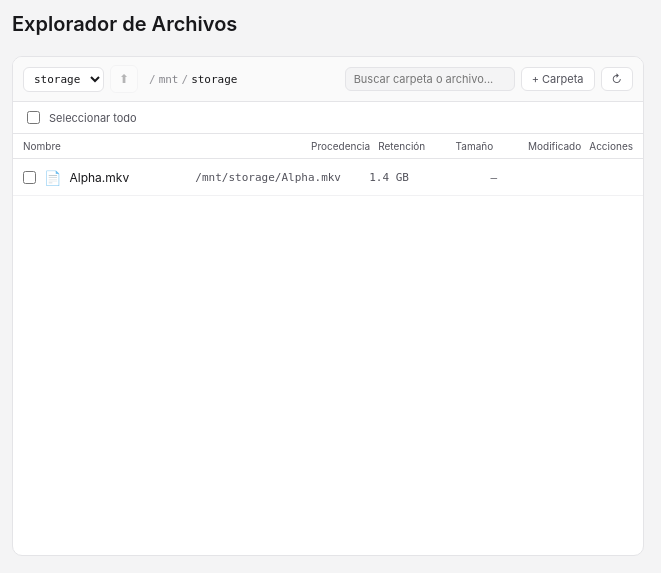
FileManager name filter › an empty result shows the empty-state line instead of a silent blank list
Expected: the text "Alpha.mkv" is shown, [70,170,129,184]
Step 1. Type "zzz" into the search field named "Filtrar archivos" → coordinates (430, 79), box [345,67,515,91]
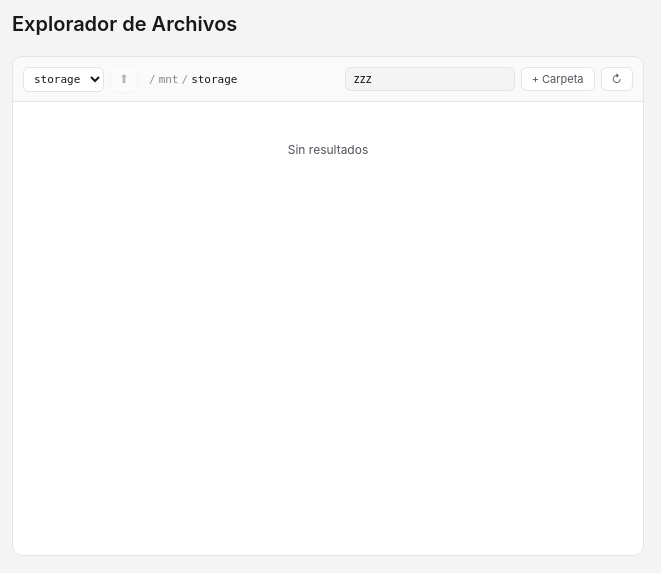
Expected: the text "Alpha.mkv" is gone
Expected: the text "Sin resultados" is shown, [288,142,368,157]
